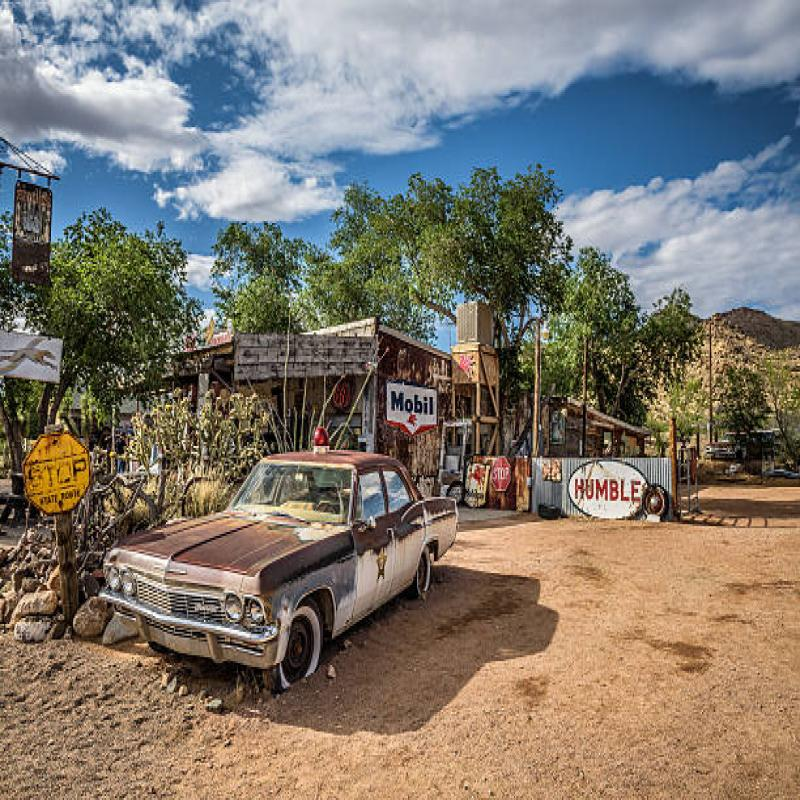AmbulanceSiren: (303, 415, 333, 458)
